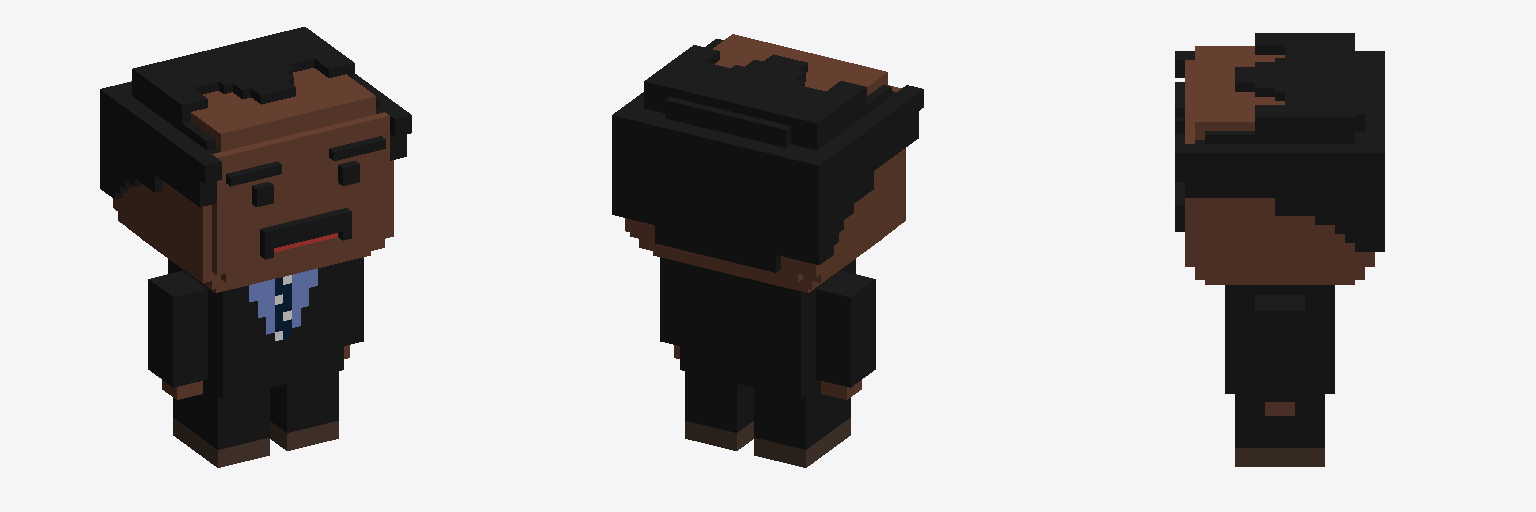
3 views of the same model, side by side, from view 1: azimuth 30°, elevation 25°; view 2: azimuth 150°, elevation 25°; view 3: azimuth 270°, elevation 25° (orthographic).
Visible parts, largest first — view 1: object 1; view 2: object 1; view 3: object 1.
Part boxes in pixels (x1,y1,x2,y2): object 1: (100, 27, 411, 467); object 1: (612, 34, 923, 467); object 1: (1175, 33, 1384, 466).
Size of the model in its own units: 2.4 by 4 by 2.1.
1 materials, 1 textured.